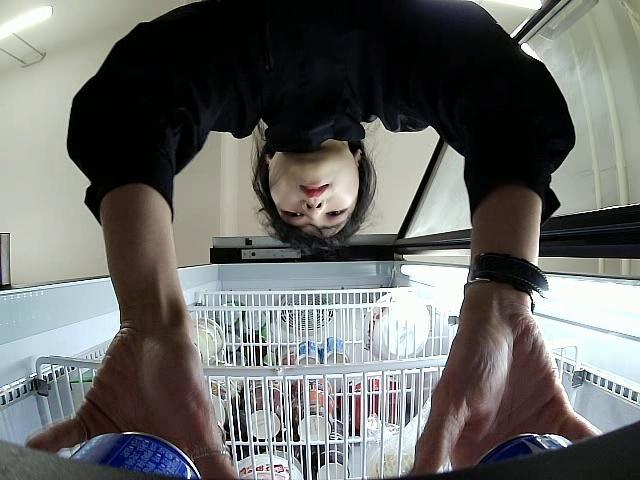13_pocariSweat: (70, 433, 202, 480), (478, 434, 571, 465)
